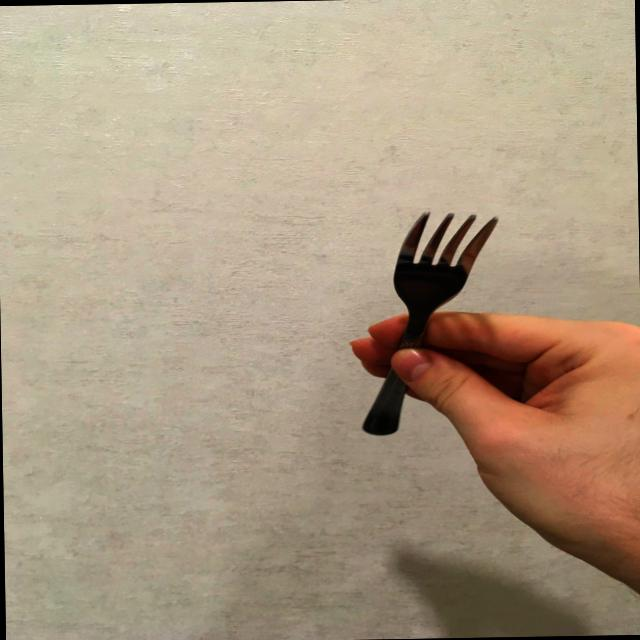fork: (358, 209, 504, 437)
